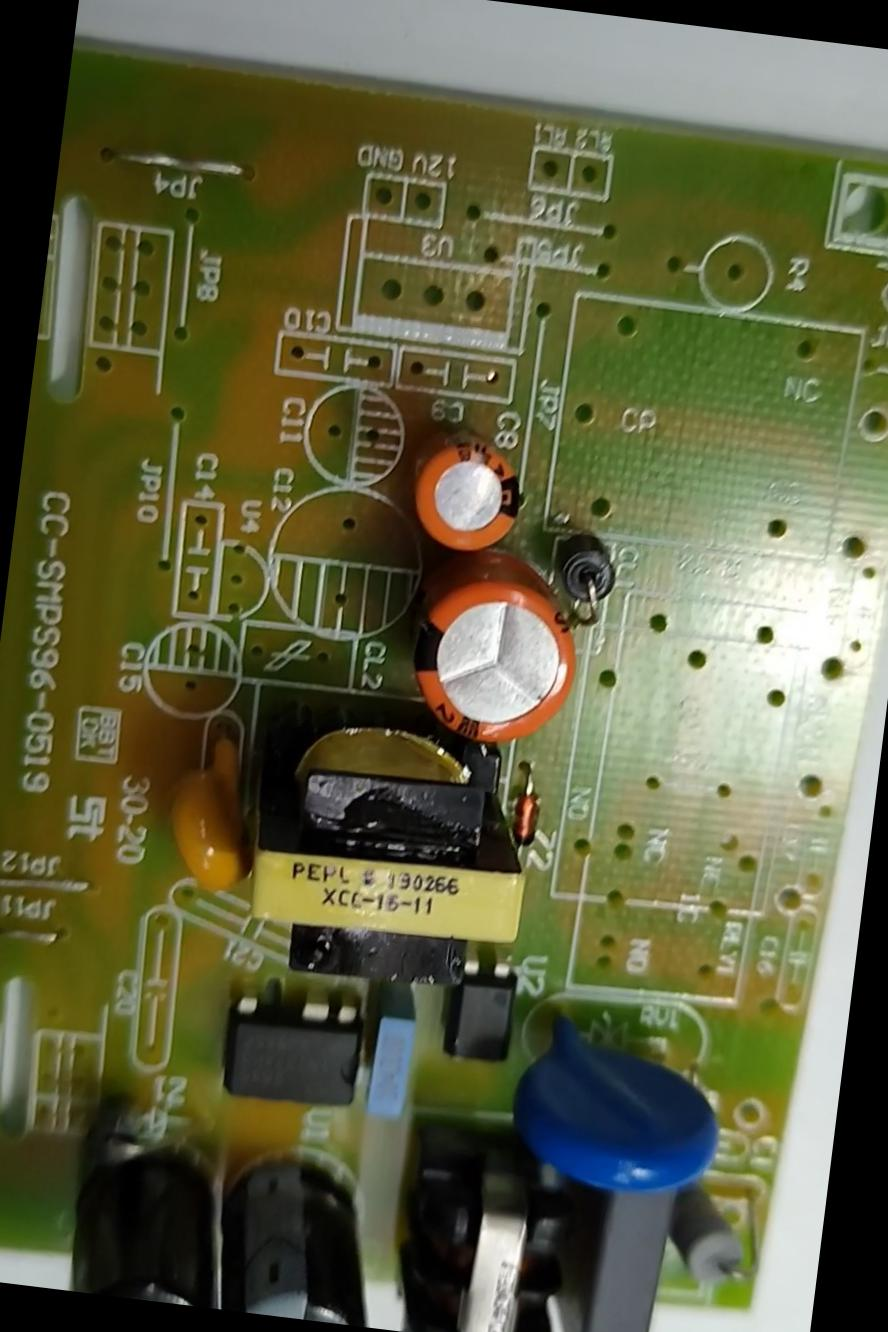Cap1: (380, 553, 599, 758)
Cap2: (386, 414, 536, 572)
Cap3: (208, 1130, 408, 1329)
Cap4: (52, 1102, 251, 1310)
MOSFET: (206, 978, 379, 1124)
Mov: (476, 996, 754, 1219)
Resistor: (660, 1166, 773, 1306)
Transformer: (223, 667, 554, 972), (381, 1083, 600, 1331)
